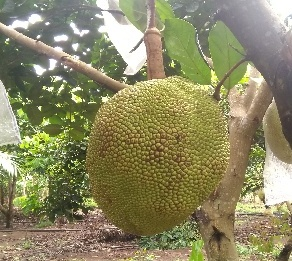Mit: (86, 79, 229, 237)
